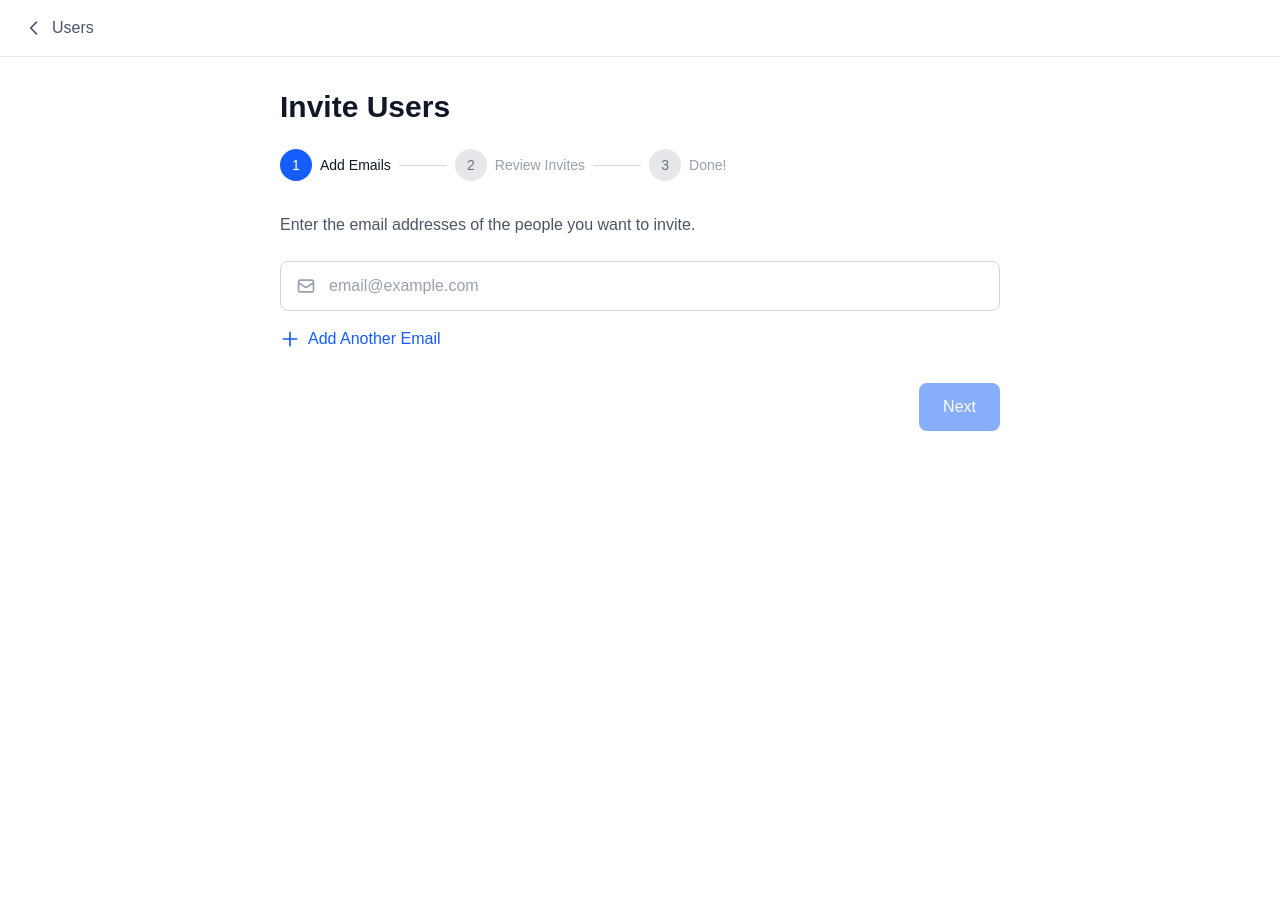
Scenario: InviteUserModal › should remove email field when clicking remove button
This screenshot has width=1280, height=900.
# Add another email
Click the button "Add Another Email". click: (360, 339)
box: [280,327,440,351]
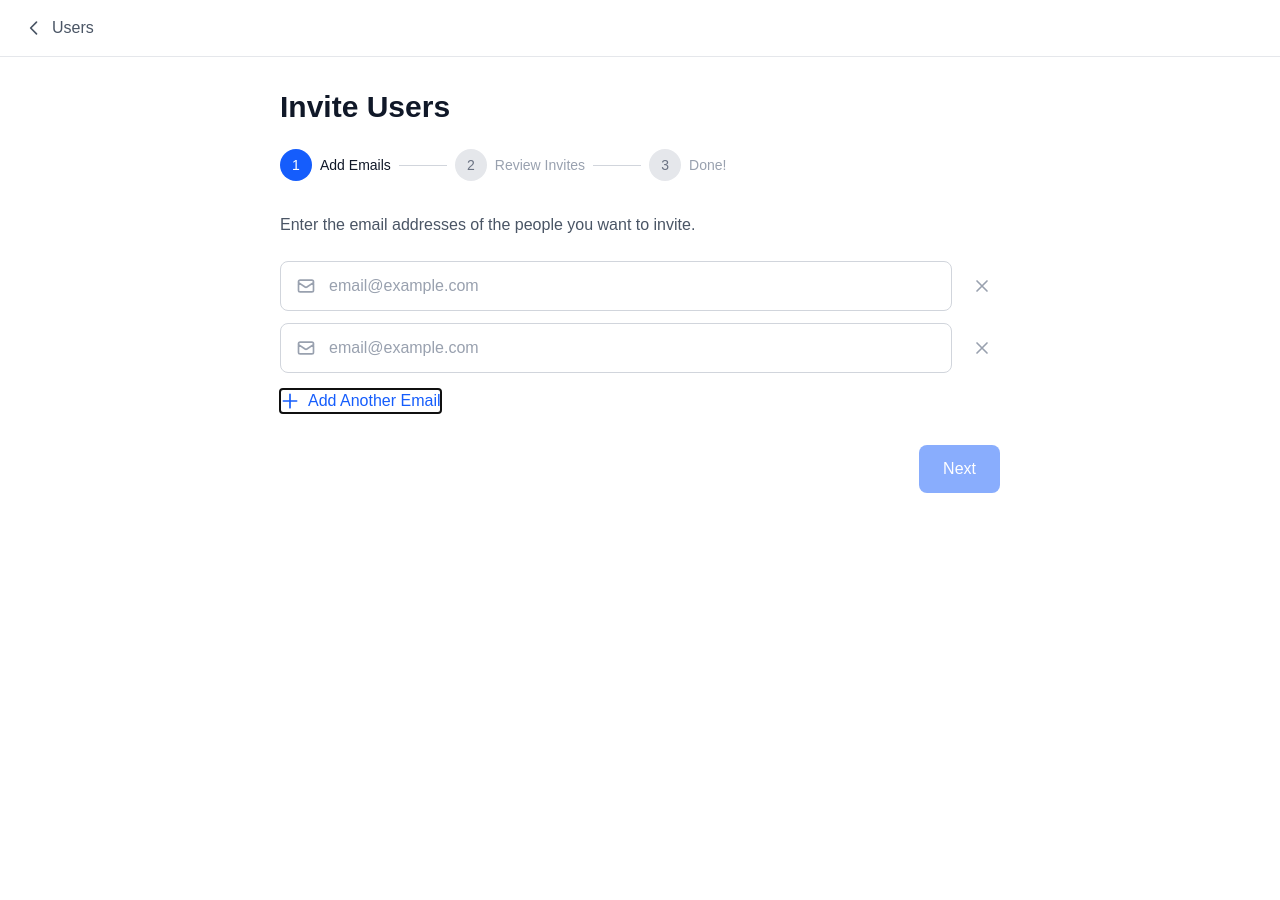
Check: the number of fields with placeholder "email@example.com" is 2, box [280,261,952,311]; [280,323,952,373]
Click the 2nd button. click: (982, 286)
box: [964,268,1000,304]
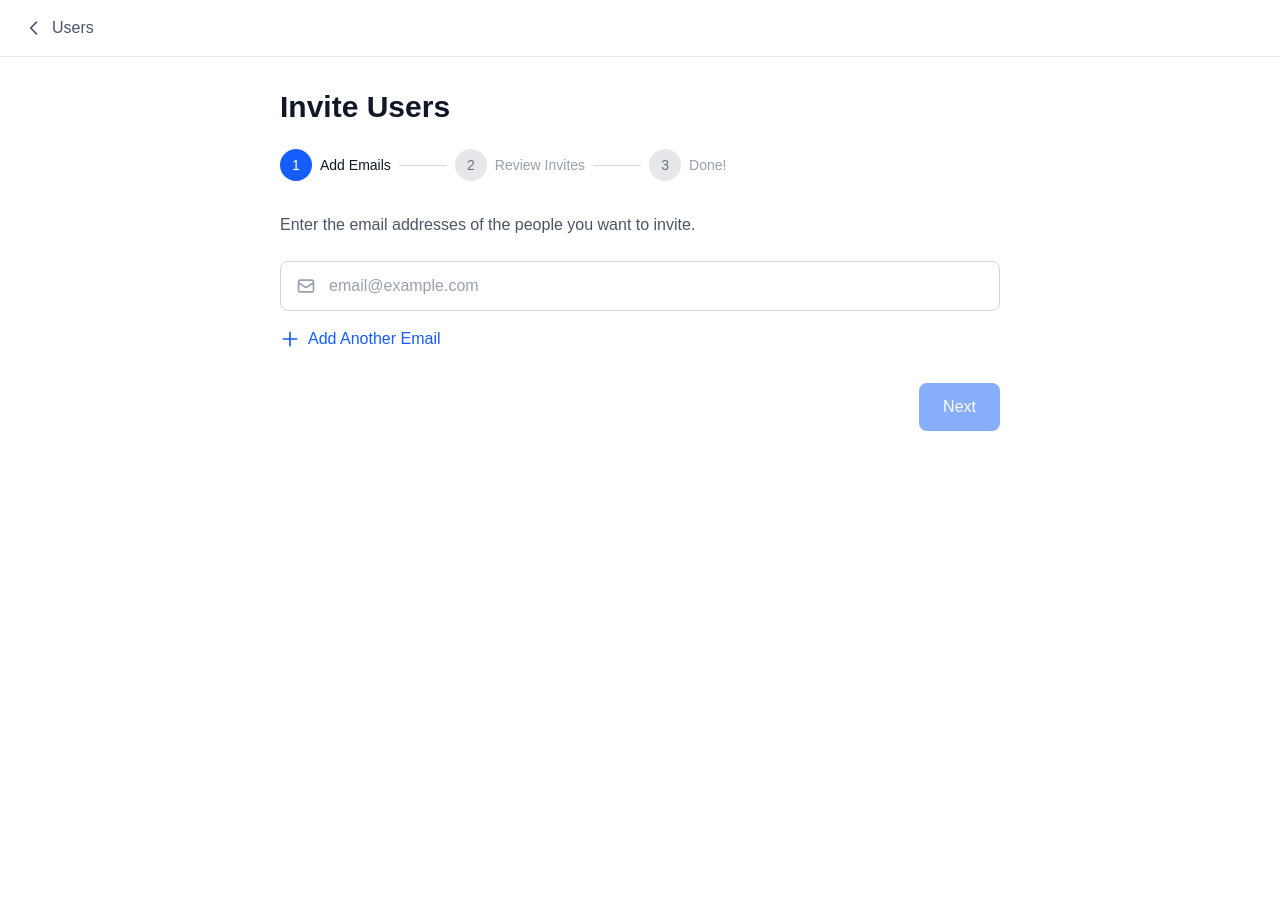
Check: the number of fields with placeholder "email@example.com" is 1, box [280,261,1000,311]
